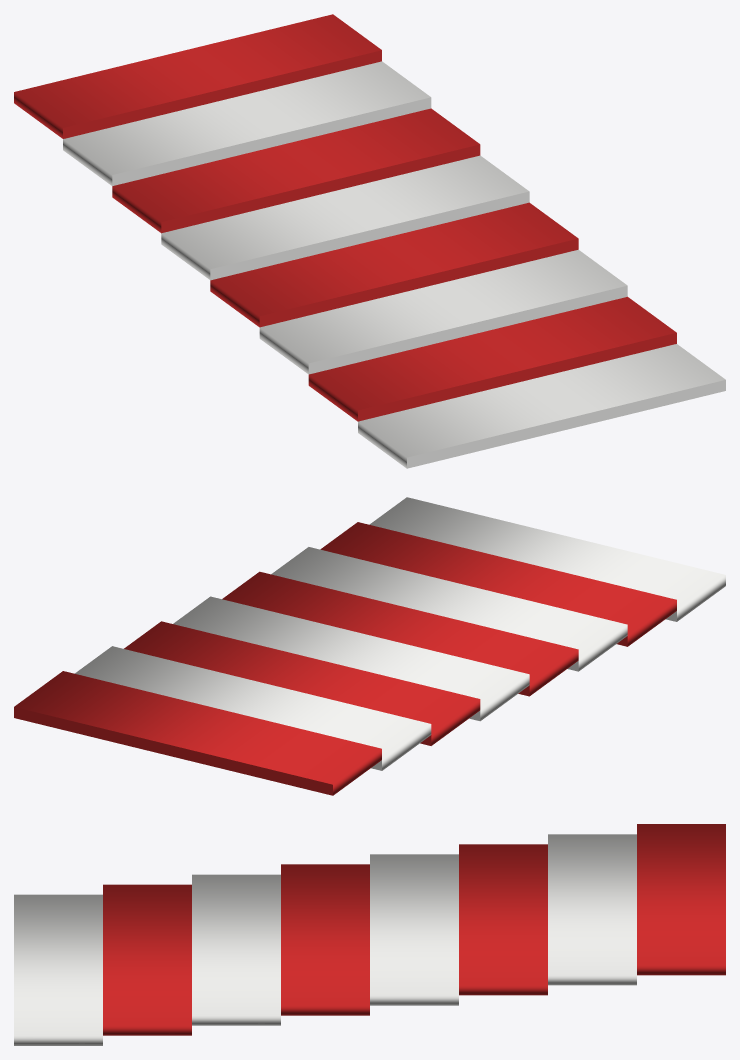
3 renders of one model, top to bottom at view 1: azimuth 30°, elevation 25°; view 2: azimuth 150°, elevation 25°; view 3: azimuth 270°, elevation 25°, orthographic. The views are drawn at different scales.
Parts seen in each view (by area): view 1: XK4b_b2000, XK4b_b3000, XK4b_b4000, XK4b_b5000, XK4b_b1000, XK4b_b6000, XK4b_b00, XK4b_b7000; view 2: XK4b_b00, XK4b_b3000, XK4b_b2000, XK4b_b4000, XK4b_b5000, XK4b_b1000, XK4b_b6000, XK4b_b7000; view 3: XK4b_b00, XK4b_b1000, XK4b_b2000, XK4b_b3000, XK4b_b4000, XK4b_b5000, XK4b_b6000, XK4b_b7000.
Part boxes in pixels (<box>): XK4b_b2000: <box>112,108,480,233</box>; XK4b_b3000: <box>161,155,529,280</box>; XK4b_b4000: <box>210,202,578,327</box>; XK4b_b5000: <box>259,249,627,374</box>; XK4b_b1000: <box>63,61,431,186</box>; XK4b_b6000: <box>308,296,676,421</box>; XK4b_b00: <box>14,14,381,138</box>; XK4b_b7000: <box>358,344,725,468</box>; XK4b_b00: <box>14,671,381,795</box>; XK4b_b3000: <box>173,596,529,721</box>; XK4b_b2000: <box>124,621,480,745</box>; XK4b_b4000: <box>222,571,578,696</box>; XK4b_b5000: <box>271,547,627,671</box>; XK4b_b1000: <box>75,646,431,770</box>; XK4b_b6000: <box>320,522,676,646</box>; XK4b_b7000: <box>369,497,725,621</box>; XK4b_b00: <box>637,824,725,975</box>; XK4b_b1000: <box>548,834,636,985</box>; XK4b_b2000: <box>459,844,547,995</box>; XK4b_b3000: <box>370,854,458,1005</box>; XK4b_b4000: <box>281,864,369,1015</box>; XK4b_b5000: <box>192,874,280,1025</box>; XK4b_b6000: <box>103,884,191,1035</box>; XK4b_b7000: <box>14,894,102,1045</box>.
Size of the model in its own units: 1.5 by 0.4 by 3.2.
